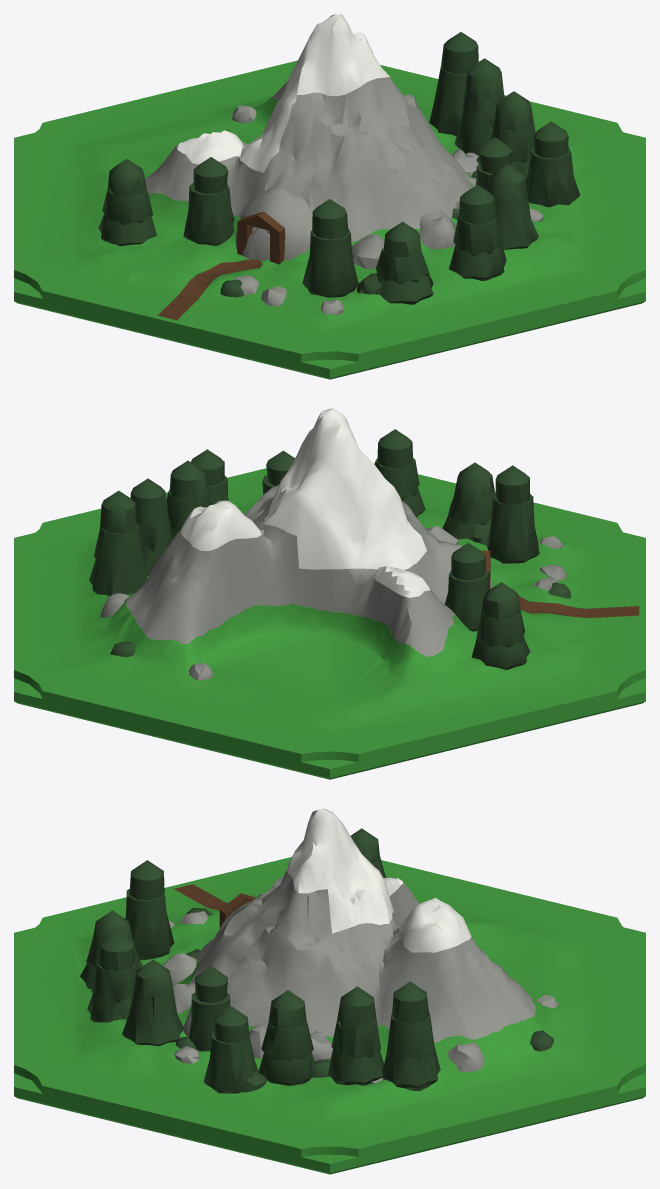
Rendered from gebirge_1.glb.
The picture shows the model from 3 angles, top to bottom: view 1: azimuth 30°, elevation 25°; view 2: azimuth 150°, elevation 25°; view 3: azimuth 270°, elevation 25°; orthographic projection.
Parts seen in each view (by area): view 1: gebirge_1; view 2: gebirge_1; view 3: gebirge_1.
Part boxes in pixels (x1=…): gebirge_1: x1=14, y1=14, x2=645, y2=379; gebirge_1: x1=14, y1=408, x2=645, y2=779; gebirge_1: x1=14, y1=808, x2=645, y2=1174.
Size of the model in its own units: 65.24 by 21.15 by 56.5.
